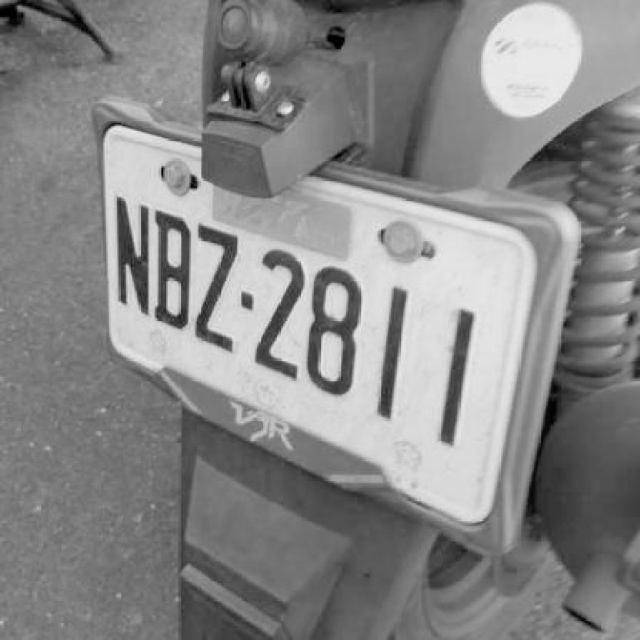-: (238, 288, 254, 312)
1: (437, 303, 478, 446), (374, 277, 409, 421)
2: (252, 240, 305, 388)
8: (305, 258, 363, 402)
B: (151, 202, 191, 338)
N: (111, 192, 151, 320)
Z: (191, 209, 240, 360)
